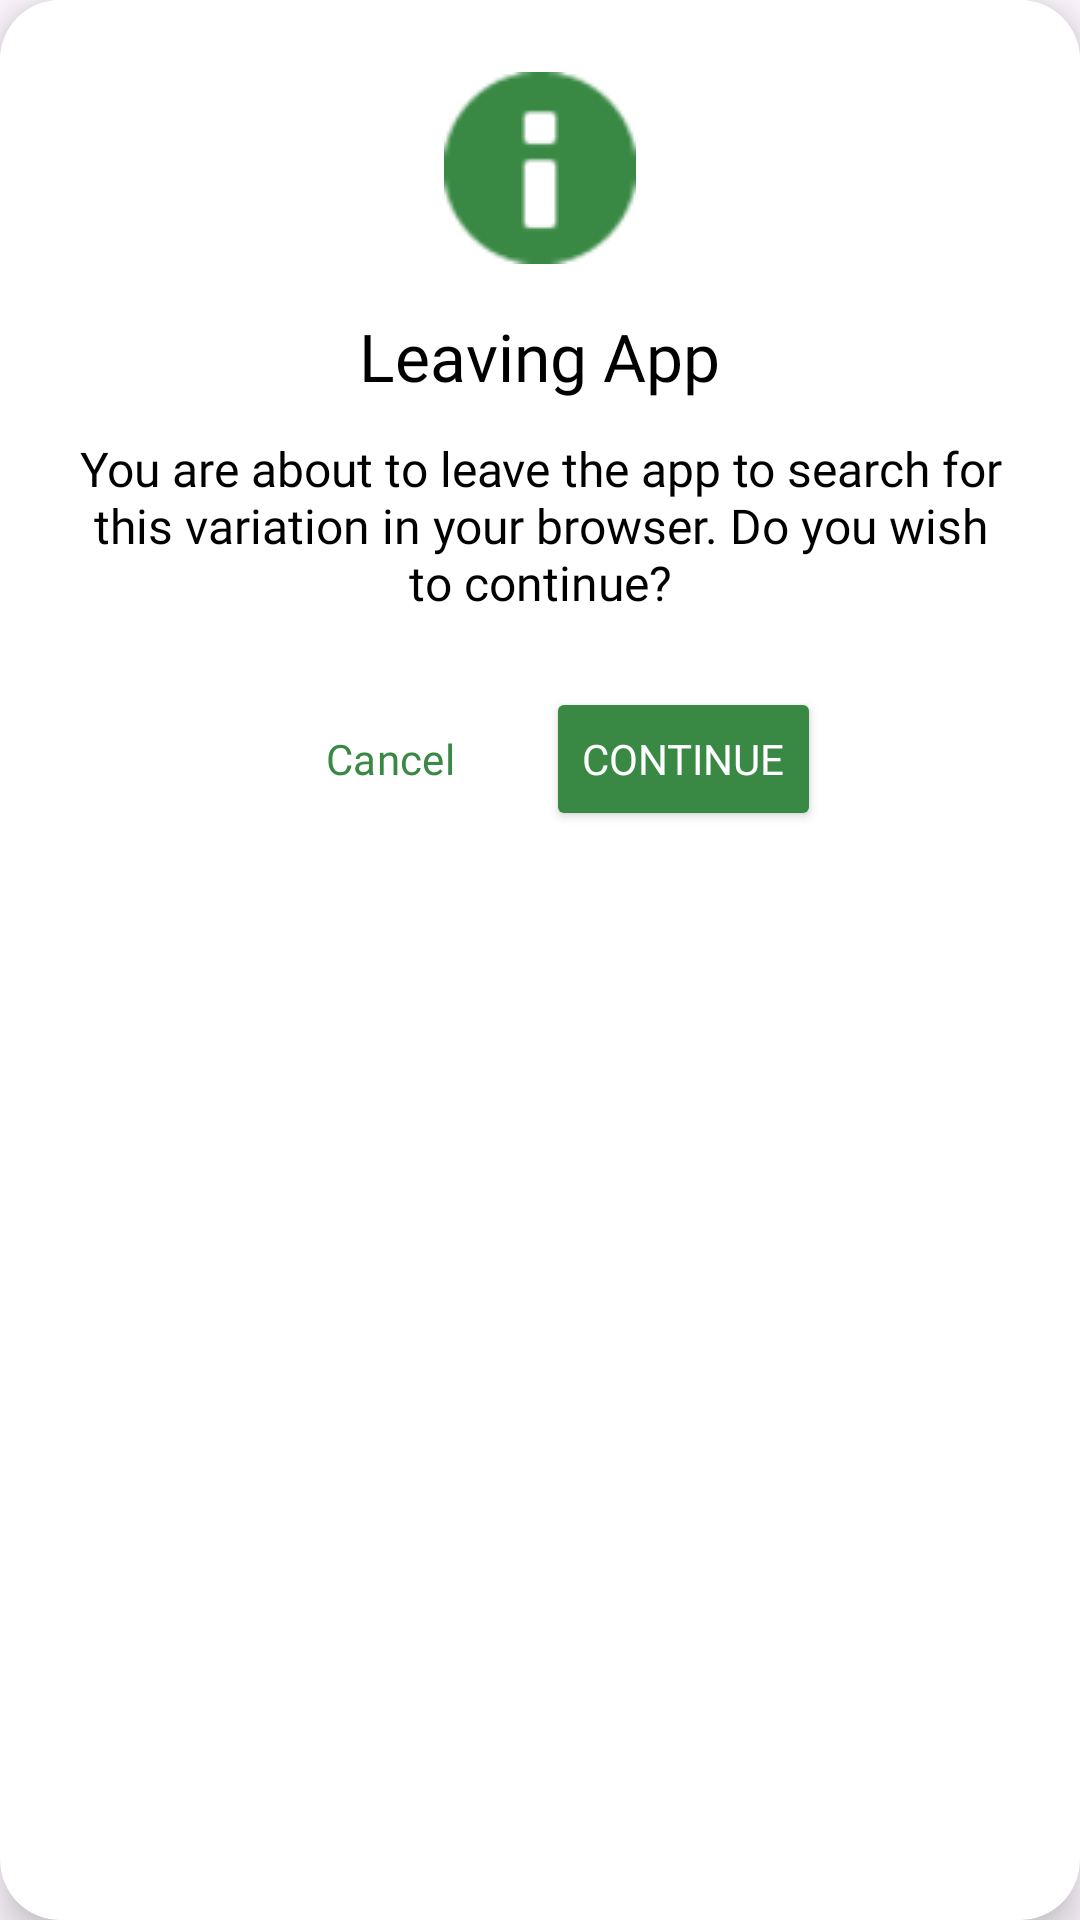

Icons on this 1080*1920 Android screen, each with the point to tap as point (x, y):
info: point (540, 168)
